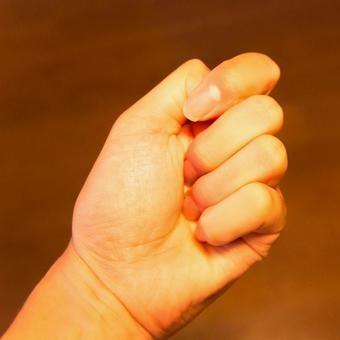gu-: (73, 52, 291, 310)
